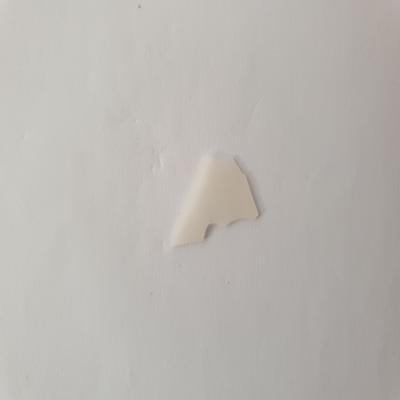plastic: (165, 148, 265, 250)
